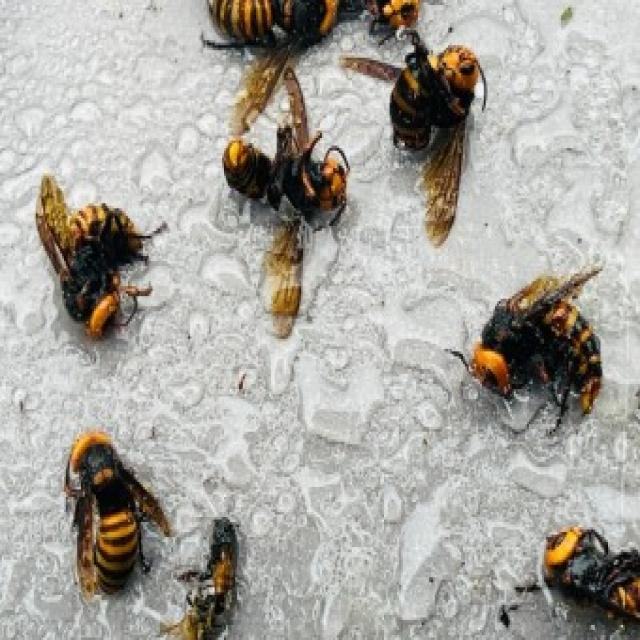Wasp: (219, 80, 346, 324), (464, 262, 608, 431), (367, 32, 483, 231), (29, 162, 151, 342), (50, 430, 154, 598), (524, 518, 640, 627)
